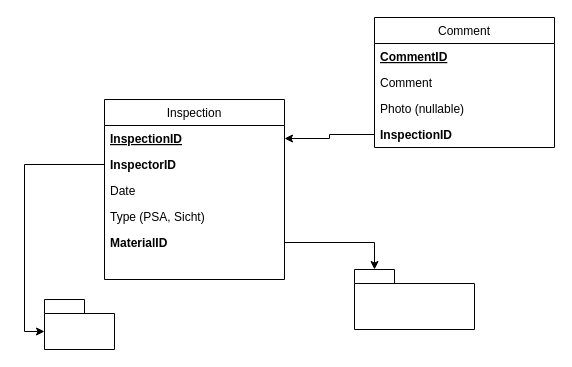
Some shapes in this 572 by 367 pixel diagram are drawn without their labels. The box of each missing label's shape, as (x1, y1, x2, y2) in pixels:
Material: (354, 268, 474, 330)
User: (44, 298, 114, 350)
